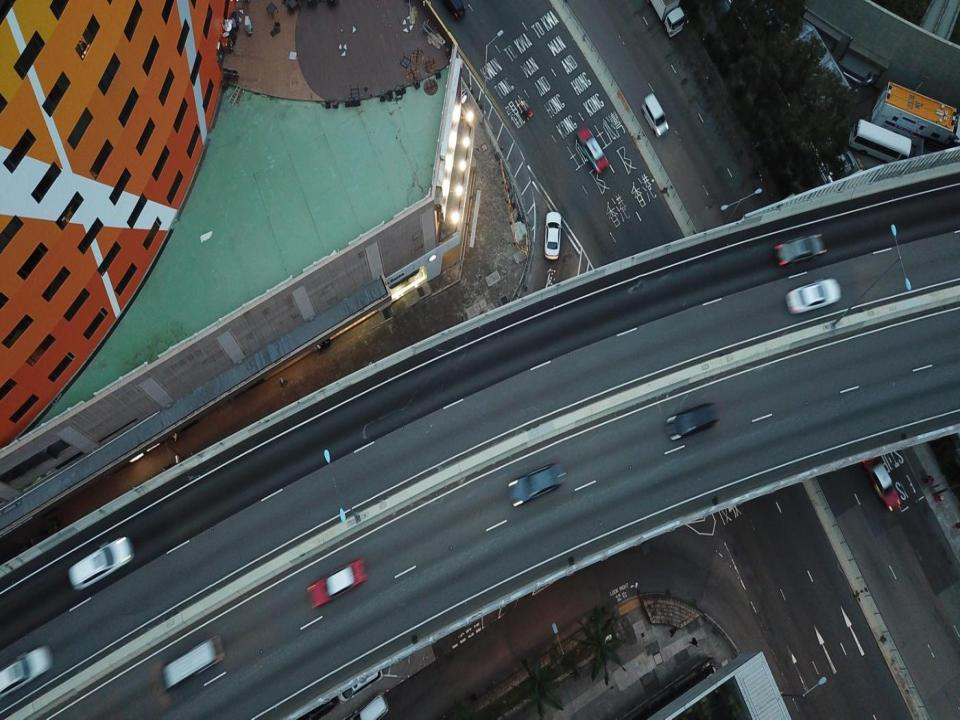bus: (849, 118, 911, 162)
car: (64, 534, 133, 590), (161, 632, 224, 688), (306, 556, 367, 610), (1, 642, 55, 696), (504, 461, 565, 507), (785, 274, 842, 317), (663, 400, 719, 442), (865, 451, 903, 512), (576, 126, 612, 175), (775, 235, 825, 266), (544, 210, 563, 259)
truck: (872, 72, 958, 150), (650, 1, 689, 38)
van: (640, 91, 670, 137)
